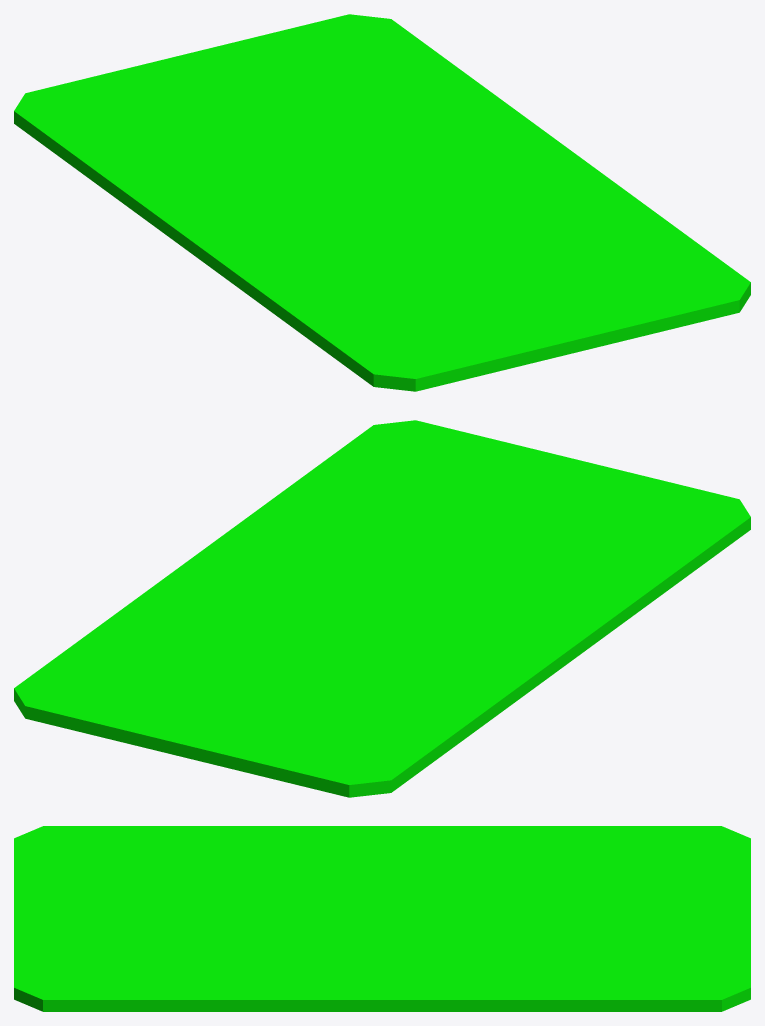
Rendered from SM_KitchenTool_14_Collider.fbx.
3 renders of one model, top to bottom at view 1: azimuth 30°, elevation 25°; view 2: azimuth 150°, elevation 25°; view 3: azimuth 270°, elevation 25°, orthographic. The views are drawn at different scales.
Visible parts, largest first — view 1: SM_KitchenTool_14_Collider; view 2: SM_KitchenTool_14_Collider; view 3: SM_KitchenTool_14_Collider.
Part boxes in pixels (x1,y1,x2,y2): SM_KitchenTool_14_Collider: (14, 14, 750, 391); SM_KitchenTool_14_Collider: (14, 420, 750, 797); SM_KitchenTool_14_Collider: (14, 826, 750, 1011).
Bounding box in the file's own units: 25.43 × 0.8139 × 45.57.
